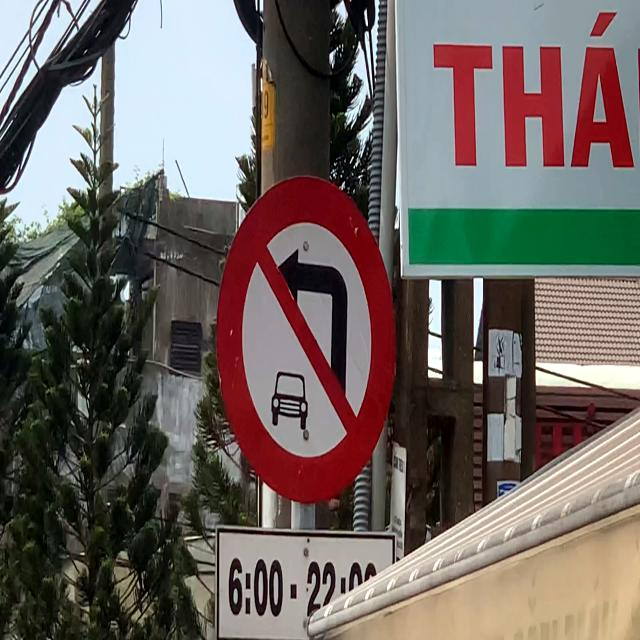P.103c: (211, 171, 398, 502)
